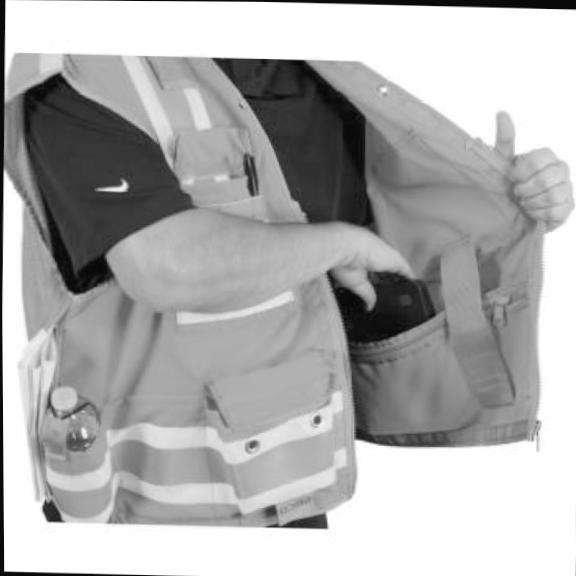safety_vest: (0, 50, 558, 534)
